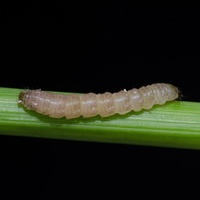insect: (19, 83, 178, 118)
